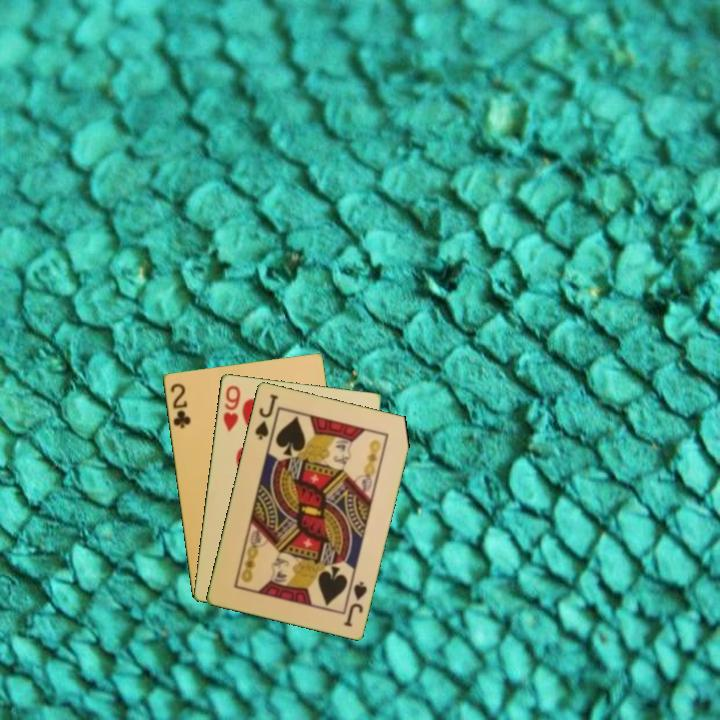2c: (167, 379, 194, 431)
9h: (219, 382, 243, 434)
Js: (251, 390, 281, 442), (340, 577, 370, 629)
